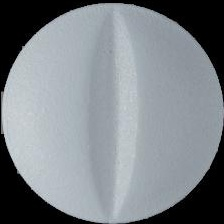62584-267: (0, 0, 224, 224)
